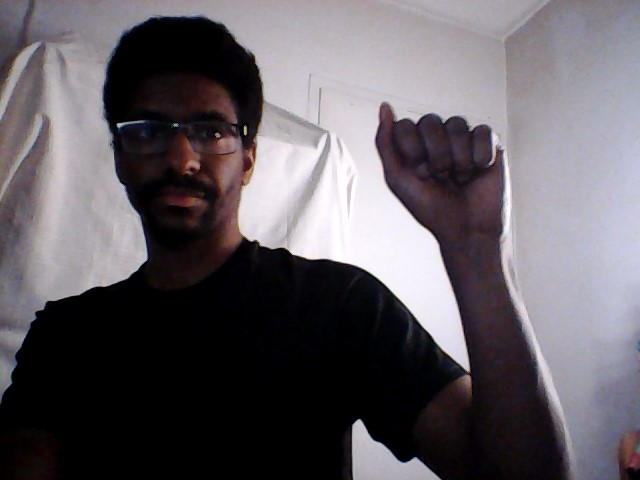a: (371, 100, 519, 240)
